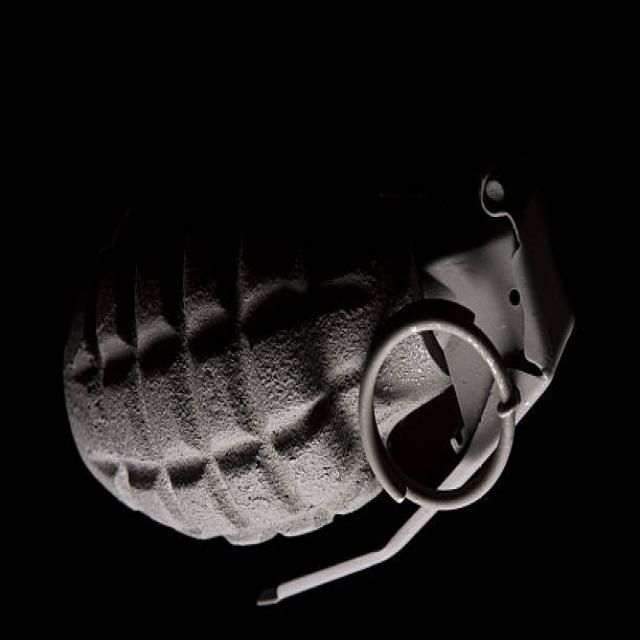grenade: (64, 167, 582, 611)
